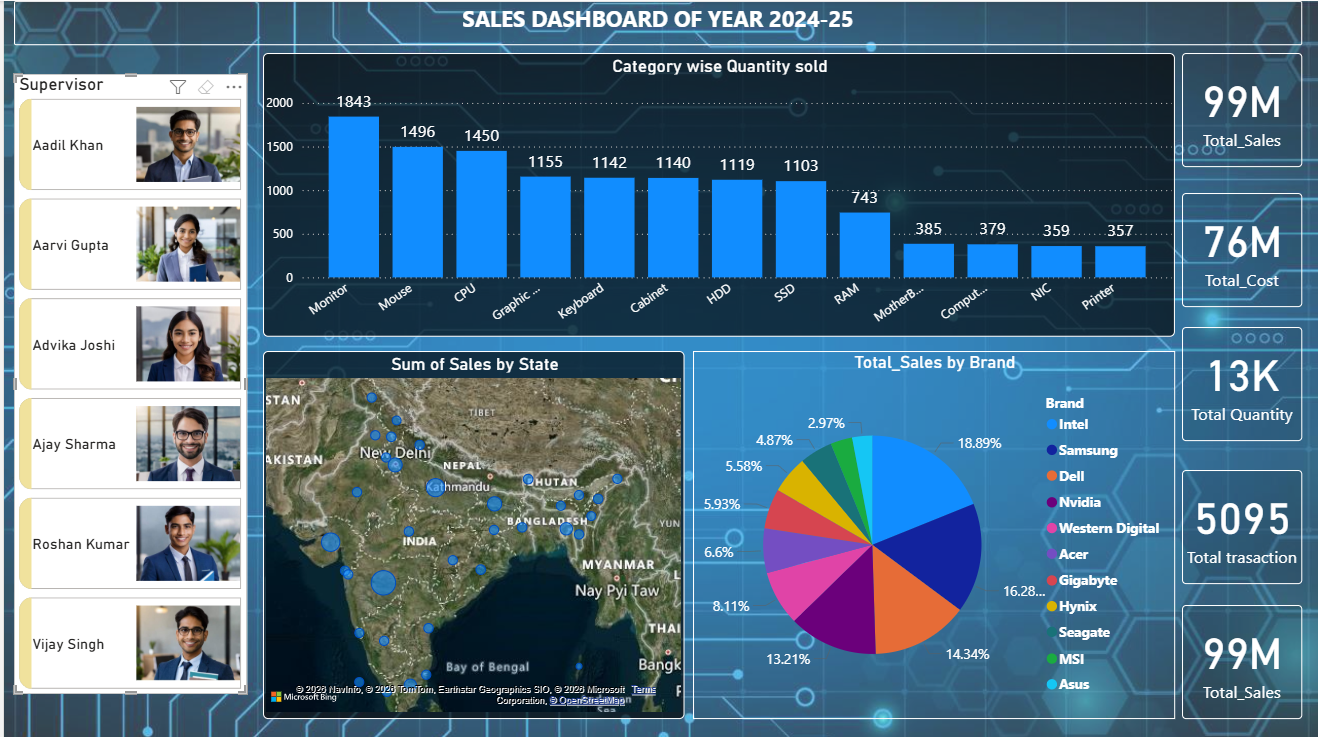

The dashboard page shown, as its layout file describes it:
{"tool":"powerbi","page":{"name":"Page 1","canvas":[1280,720],"ordinal":0},"visuals":[{"type":"textbox","box":[9.7,0,1252.8,42.8],"z":0},{"type":"card","fields":{"Values":["Sum(Sales_Data.Total_Sales)"]},"box":[1145.8,50.6,116.7,110.9],"z":1000},{"type":"card","fields":{"Values":["Sum(Sales_Data.Total_Cost)"]},"box":[1145.8,186.7,116.7,110.9],"z":2000},{"type":"card","fields":{"Values":["CountNonNull(Sales_Data.Order_Number)"]},"box":[1145.8,456.2,116.7,110.9],"z":3000},{"type":"card","fields":{"Values":["Sum(Sales_Data.Quantity)"]},"box":[1145.8,317.1,116.7,110.9],"z":4000},{"type":"card","fields":{"Values":["Sum(Sales_Data.Total_Sales)"]},"box":[1145.8,587.5,116.7,110.9],"z":5000},{"type":"columnChart","title":"Category wise Quantity sold","fields":{"Y":["Sum(Sales_Data.Quantity)"],"Category":["Sales_Data.Category"]},"box":[251.9,50.6,887.1,276.2],"z":6000},{"type":"pieChart","title":"Total_Sales by Brand","fields":{"Y":["Sum(Sales_Data.Total_Sales)"],"Category":["Sales_Data.Brand"]},"box":[670.2,340.4,468.8,357.9],"z":7000},{"type":"map","fields":{"Category":["State_list.State"],"Size":["Sum(Sales_Data.Sales)"]},"box":[251.9,340.4,410.5,357.9],"z":8000},{"type":"advancedSlicerVisual","fields":{"Values":["Supervisor.Supervisor"]},"box":[9.7,71,226.6,603],"z":9000}]}

Visuals, with their boxes in screenshot pixels (x1, y1, x2, y2), scaled from the page's 1280x720 canvas onto the 1318x737 screenshot:
textbox: Rect(10, 0, 1300, 44)
card - Sum(Sales_Data.Total_Sales): Rect(1180, 52, 1300, 165)
card - Sum(Sales_Data.Total_Cost): Rect(1180, 191, 1300, 305)
card - CountNonNull(Sales_Data.Order_Number): Rect(1180, 467, 1300, 580)
card - Sum(Sales_Data.Quantity): Rect(1180, 325, 1300, 438)
card - Sum(Sales_Data.Total_Sales): Rect(1180, 601, 1300, 715)
"Category wise Quantity sold" columnChart: Rect(259, 52, 1173, 335)
"Total_Sales by Brand" pieChart: Rect(690, 348, 1173, 715)
map - State_list.State x Sum(Sales_Data.Sales): Rect(259, 348, 682, 715)
advancedSlicerVisual - Supervisor.Supervisor: Rect(10, 73, 243, 690)
